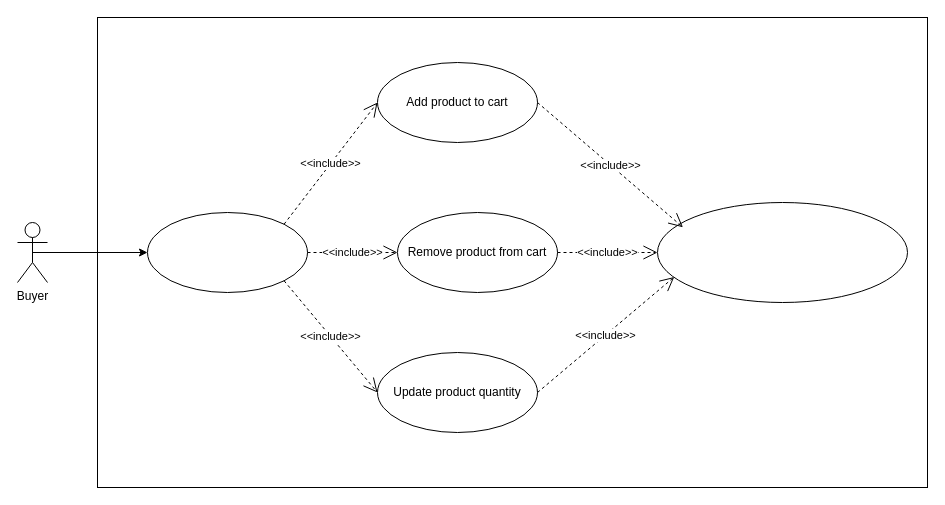
Image size: 945x505. Some labels were removed from this diagram. The shapes that lost their labels are listed below. From the top down, each one's centre as x and y in pixels, then its label:
the point at 227,252: Make a Purchase
the point at 782,252: System automatically calculates cart total
